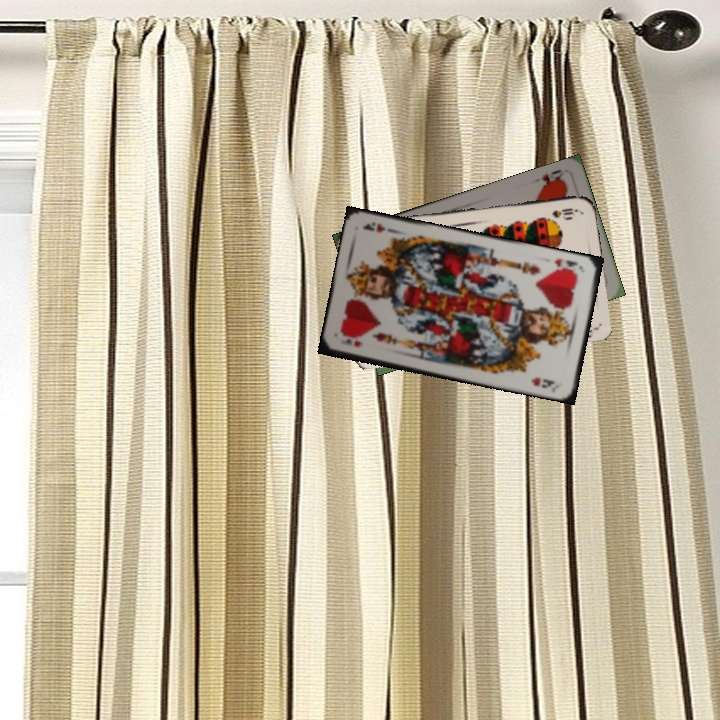HK: (551, 254, 584, 276), (337, 335, 365, 350)
HO: (529, 165, 567, 190)
S10: (548, 204, 581, 220)
